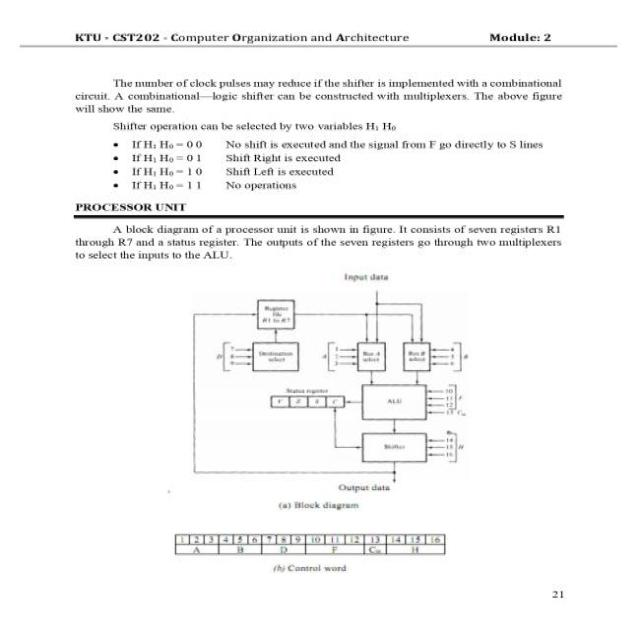Figure Detection - v3 Dataset Version2: (174, 265, 484, 497)
